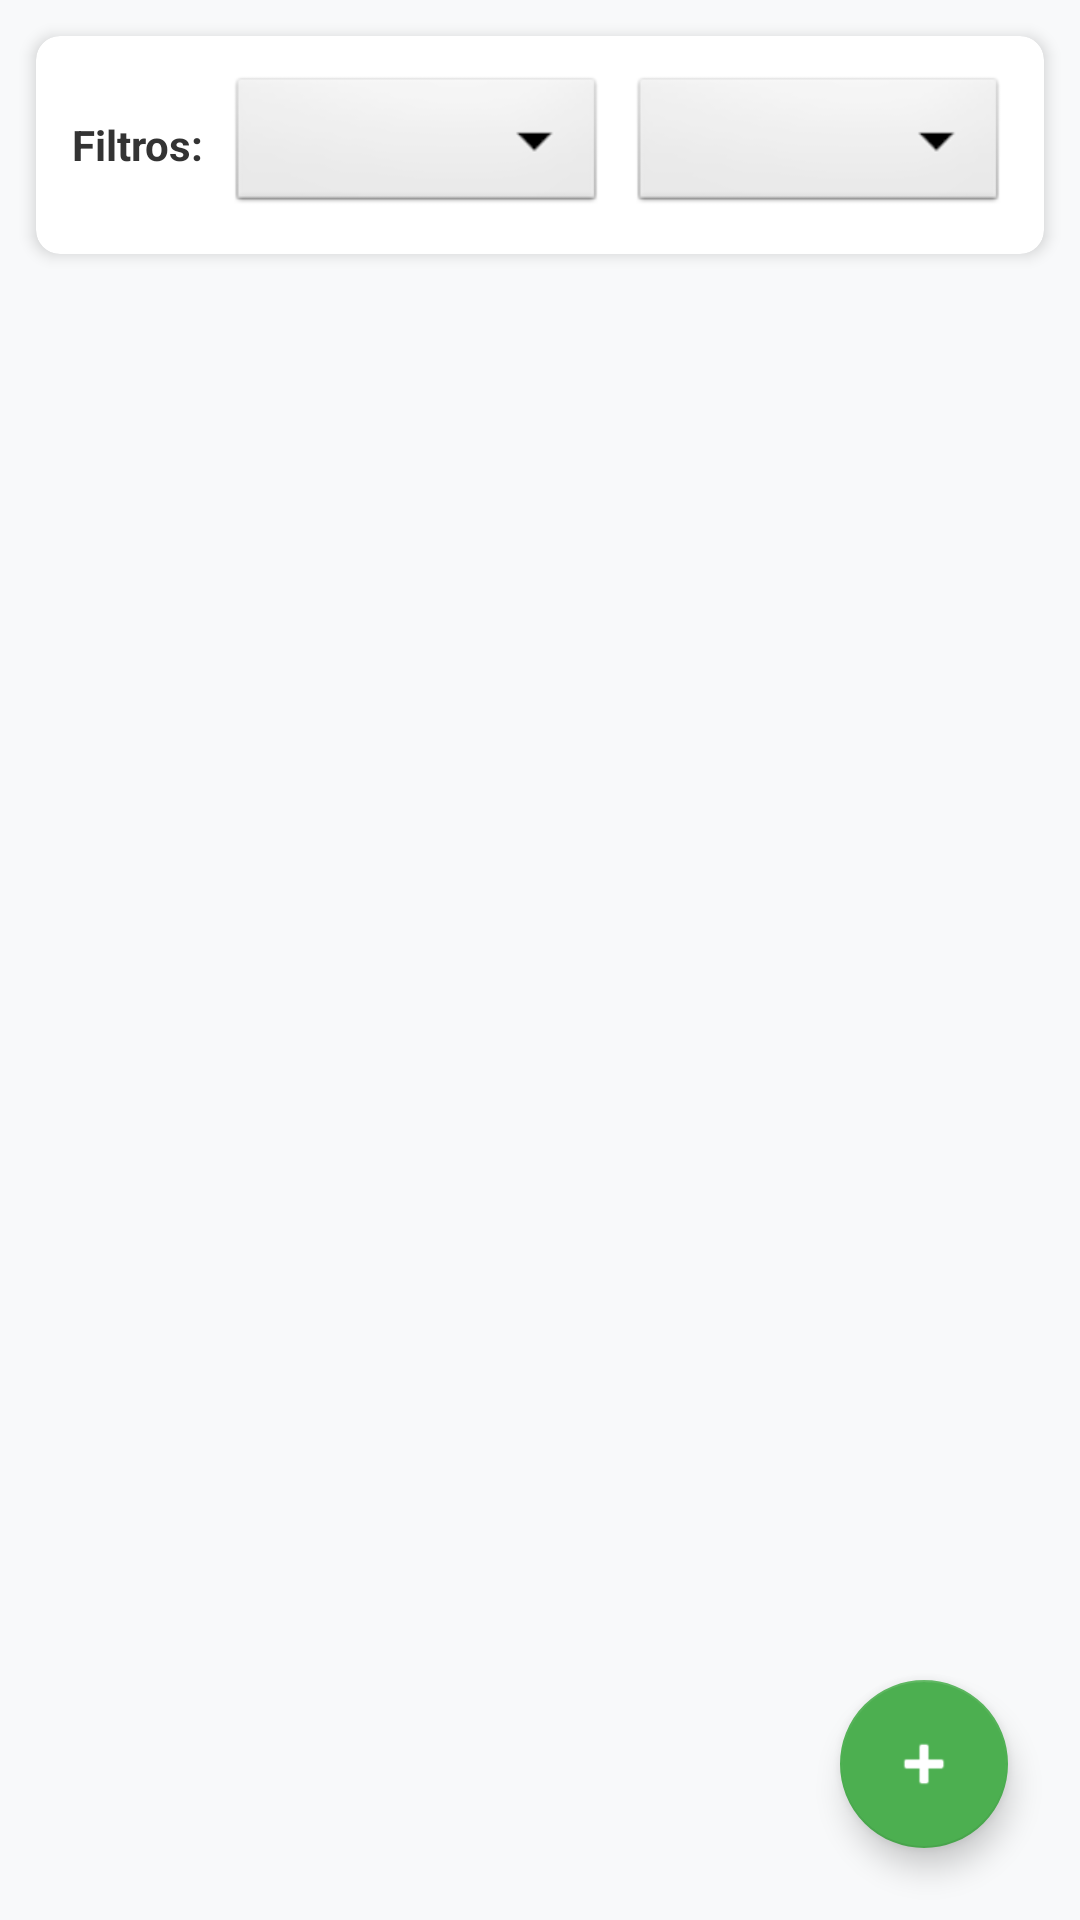

Screen size 1080×1920. Icon name, then its box in pixels as (x1, y1, x2, y2):
Añadir nuevo: (840, 1680, 1008, 1848)
